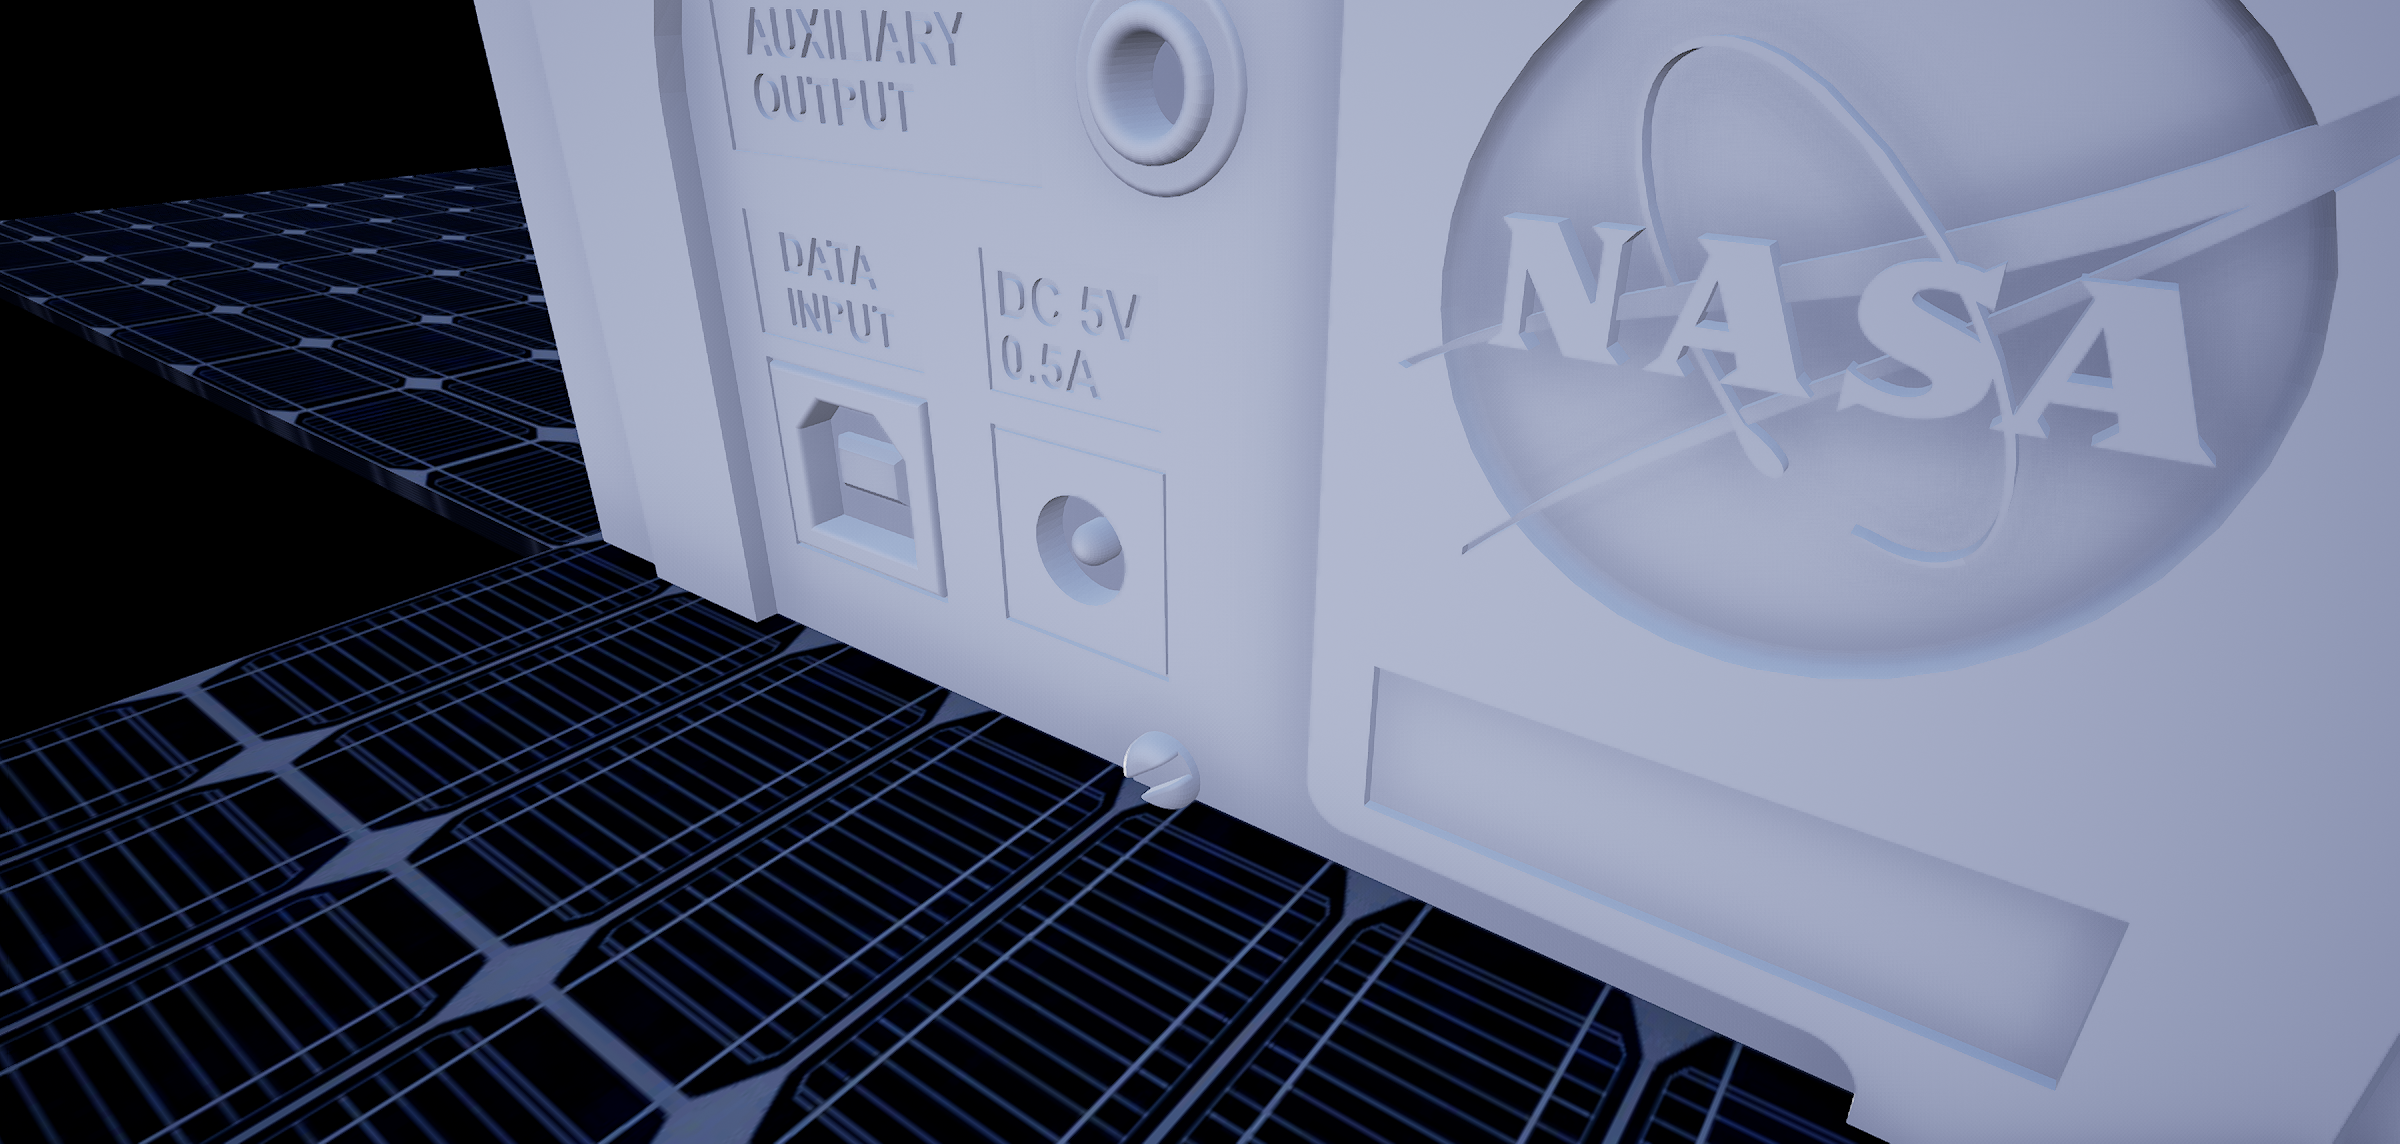aux: (1052, 2, 1263, 211)
dc: (1019, 489, 1139, 629)
usb: (787, 394, 924, 577)
